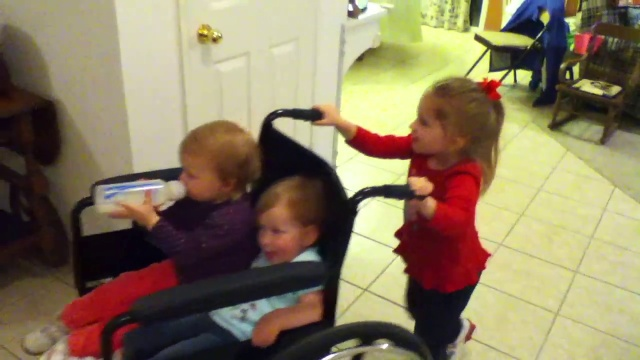person: (14, 121, 350, 354), (316, 74, 507, 354)
